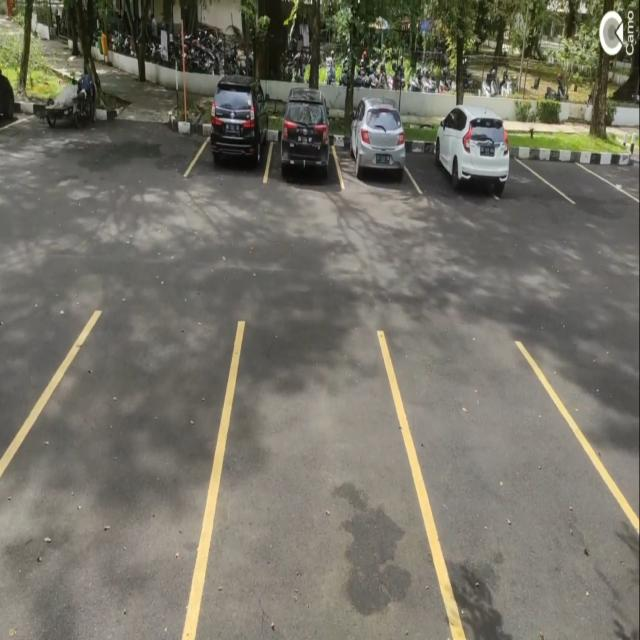empty: (12, 311, 217, 640), (214, 326, 422, 640), (424, 336, 605, 640), (552, 145, 614, 209)
occupied: (413, 108, 501, 200), (192, 104, 269, 184), (338, 110, 412, 193), (267, 102, 338, 187)
